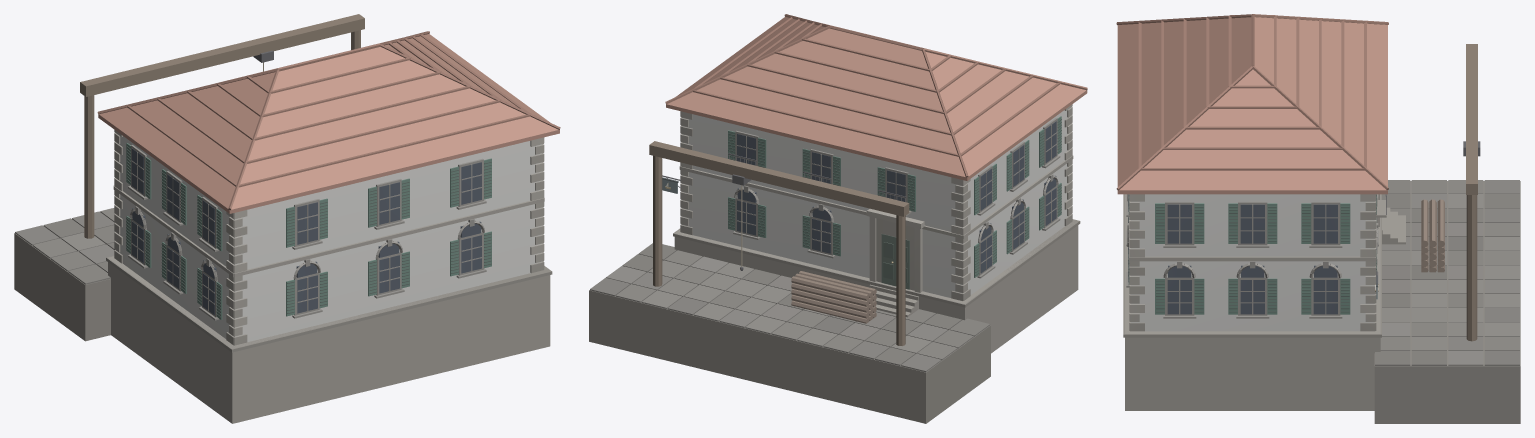
Rendered from shipyard_5.gltf.
3 views of the same model, side by side, from view 1: azimuth 30°, elevation 25°; view 2: azimuth 150°, elevation 25°; view 3: azimuth 270°, elevation 25° (orthographic). The views are drawn at different scales.
Parts seen in each view (by area): view 1: Body; view 2: Body; view 3: Body.
Part boxes in pixels (x1,y1,x2,y2): Body: (14,14,560,423); Body: (589,14,1087,423); Body: (1116,14,1520,423).
Size of the model in its own units: 18 by 13.22 by 16.6.
